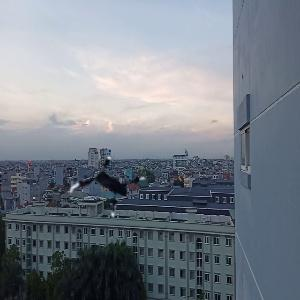drone: (64, 146, 157, 239)
